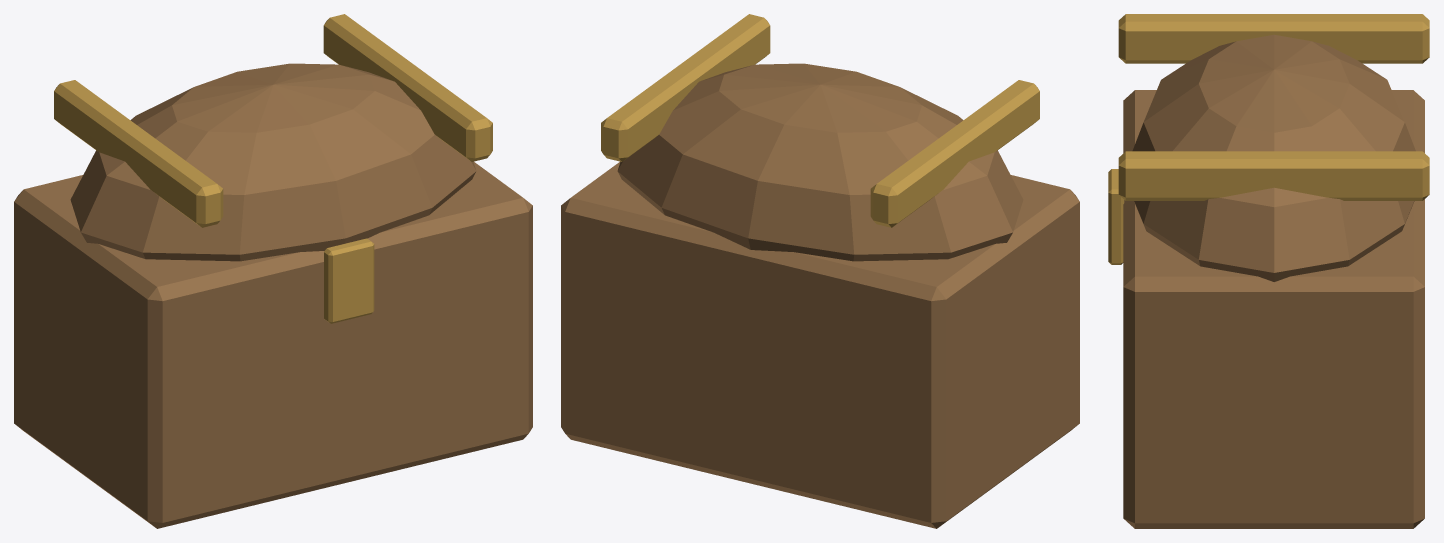
The model's file is props-chest.lod0.glb.
The picture shows the model from 3 angles, left to right: view 1: azimuth 30°, elevation 25°; view 2: azimuth 150°, elevation 25°; view 3: azimuth 270°, elevation 25°; orthographic projection. The views are drawn at different scales.
Parts seen in each view (by area): view 1: props-chest__body, props-chest__lid; view 2: props-chest__body, props-chest__lid; view 3: props-chest__body, props-chest__lid.
Part boxes in pixels (<box>): props-chest__body: <box>14,162,532,528</box>; props-chest__lid: <box>54,14,492,261</box>; props-chest__body: <box>561,162,1079,528</box>; props-chest__lid: <box>601,14,1039,261</box>; props-chest__body: <box>1108,90,1424,528</box>; props-chest__lid: <box>1118,14,1429,281</box>.
Size of the model in its own units: 1 by 0.87 by 0.6925.
